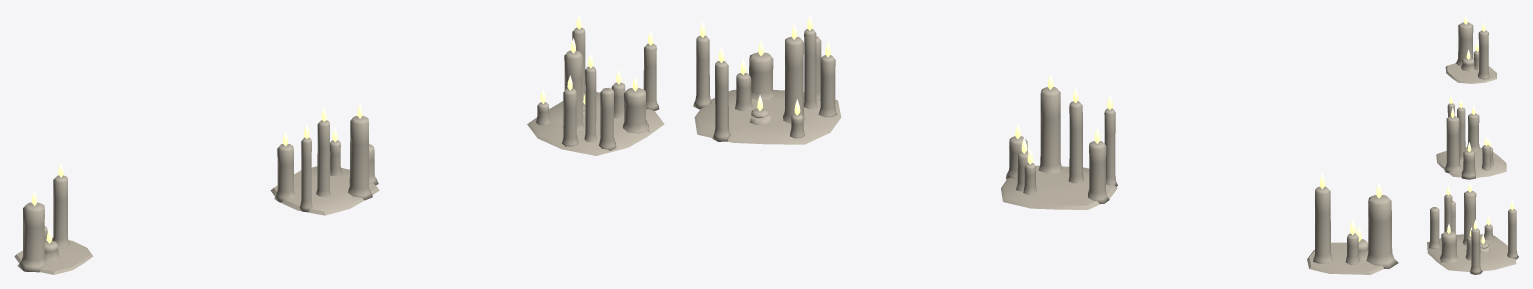
Rendered from candles.glb.
3 views of the same model, side by side, from view 1: azimuth 30°, elevation 25°; view 2: azimuth 150°, elevation 25°; view 3: azimuth 270°, elevation 25° (orthographic). The views are drawn at different scales.
Visible parts, largest first — view 1: cd_wax_ns.002, cd_wax_ns.001, cd3_ns.001, cd1_ns, cd_wax_ns, cd3_ns, cd9_ns, cd0_ns.001, cd2_ns.002, cd1_ns.001, cd7_ns, cd0_ns.002 (+6 smaller); view 2: cd_wax_ns.002, cd_wax_ns.001, cd3_ns.001, cd1_ns, cd2_ns.002, cd3_ns, cd_wax_ns, cd0_ns.001, cd3_ns.002, cd9_ns, cd1_ns.001, cd6_ns.001 (+5 smaller); view 3: cd_wax_ns.002, cd_wax_ns.001, cd3_ns.001, cd_wax_ns, cd1_ns, cd2_ns.002, cd3_ns, cd9_ns, cd3_ns.002, cd6_ns.001, cd7_ns, cd1_ns.001 (+11 smaller).
Part boxes in pixels (left/top/right/bottom): cd_wax_ns.002: left=527, top=92, right=664, bottom=155; cd_wax_ns.001: left=270, top=166, right=379, bottom=215; cd3_ns.001: left=348, top=116, right=372, bottom=200; cd1_ns: left=17, top=202, right=46, bottom=272; cd_wax_ns: left=14, top=237, right=93, bottom=274; cd3_ns: left=52, top=175, right=69, bottom=246; cd9_ns: left=622, top=88, right=649, bottom=133; cd0_ns.001: left=316, top=120, right=330, bottom=196; cd2_ns.002: left=563, top=50, right=584, bottom=131; cd1_ns.001: left=274, top=144, right=295, bottom=202; cd7_ns: left=598, top=88, right=616, bottom=150; cd0_ns.002: left=584, top=66, right=597, bottom=141; cd_wax_ns.002: left=694, top=89, right=841, bottom=144; cd_wax_ns.001: left=1001, top=165, right=1117, bottom=209; cd3_ns.001: left=1038, top=87, right=1062, bottom=173; cd1_ns: left=1366, top=195, right=1398, bottom=268; cd2_ns.002: left=783, top=36, right=805, bottom=123; cd3_ns: left=1313, top=186, right=1332, bottom=263; cd_wax_ns: left=1307, top=242, right=1383, bottom=274; cd0_ns.001: left=1068, top=101, right=1084, bottom=183; cd3_ns.002: left=712, top=61, right=730, bottom=141; cd9_ns: left=749, top=52, right=775, bottom=100; cd1_ns.001: left=1088, top=141, right=1109, bottom=203; cd6_ns.001: left=693, top=35, right=711, bottom=109; cd_wax_ns.002: left=1427, top=234, right=1516, bottom=271; cd_wax_ns.001: left=1436, top=147, right=1506, bottom=177; cd3_ns.001: left=1444, top=116, right=1460, bottom=172; cd_wax_ns: left=1445, top=63, right=1496, bottom=83; cd1_ns: left=1455, top=22, right=1473, bottom=65; cd2_ns.002: left=1463, top=190, right=1476, bottom=245; cd3_ns: left=1478, top=30, right=1489, bottom=79; cd9_ns: left=1440, top=231, right=1457, bottom=263; cd3_ns.002: left=1507, top=209, right=1518, bottom=259; cd6_ns.001: left=1469, top=228, right=1482, bottom=274; cd7_ns: left=1428, top=207, right=1440, bottom=248; cd1_ns.001: left=1467, top=113, right=1479, bottom=150.
Bounding box in the file's own units: 3.57 × 0.4939 × 0.6473.
